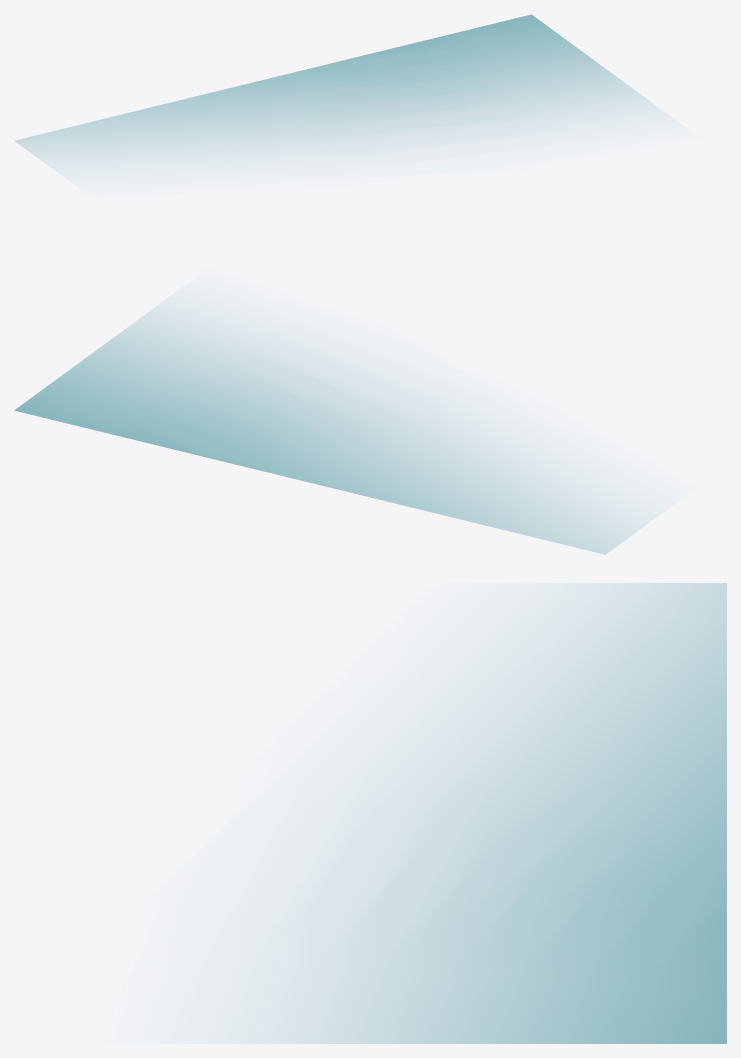
3 renders of one model, top to bottom at view 1: azimuth 30°, elevation 25°; view 2: azimuth 150°, elevation 25°; view 3: azimuth 270°, elevation 25°, orthographic. The views are drawn at different scales.
Visible parts, largest first — view 1: city; view 2: city; view 3: city.
Boxes of the visible parts, bbox=[...] form: city: bbox=[15, 14, 664, 170]; city: bbox=[14, 299, 652, 554]; city: bbox=[238, 583, 726, 1043].
Size of the model in its own units: 500 by 0 by 327.
